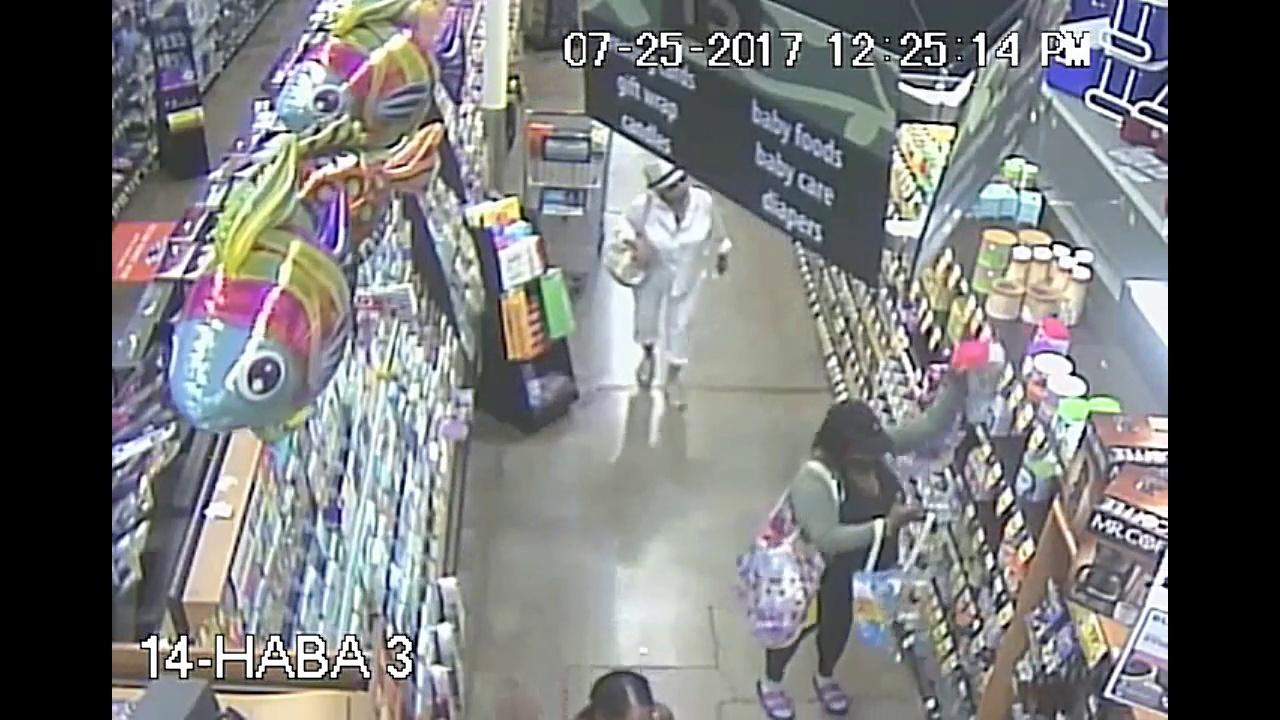Customer-Bagpack: (840, 537, 935, 659), (743, 532, 817, 648), (597, 219, 653, 284)
Product: (947, 329, 1008, 383)
Product-Picked: (727, 323, 1025, 720)
Regular: (601, 141, 749, 397), (518, 652, 696, 720)
